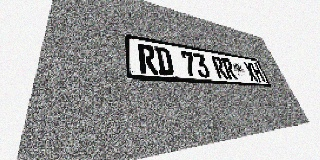3: (192, 53, 211, 78)
7: (180, 51, 199, 77)
D: (154, 46, 175, 76)
H: (250, 62, 266, 82)
R: (137, 43, 158, 74), (211, 56, 229, 79), (221, 57, 238, 80)
X: (242, 61, 259, 81)
